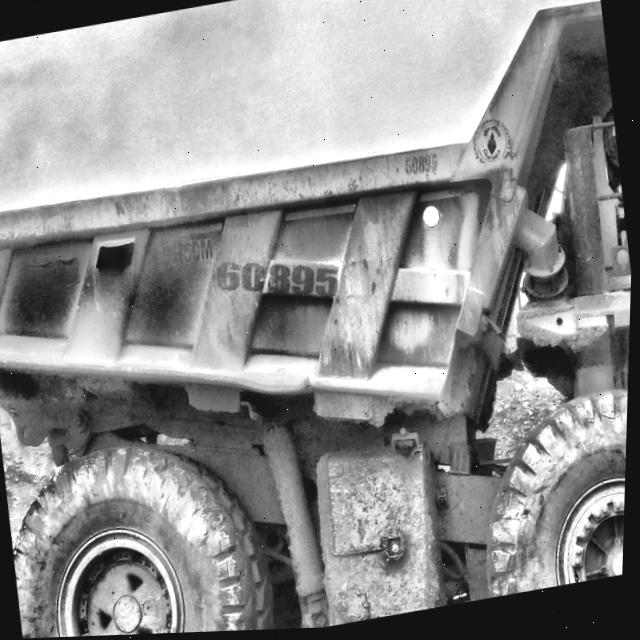dump_truck: (0, 5, 633, 639)
